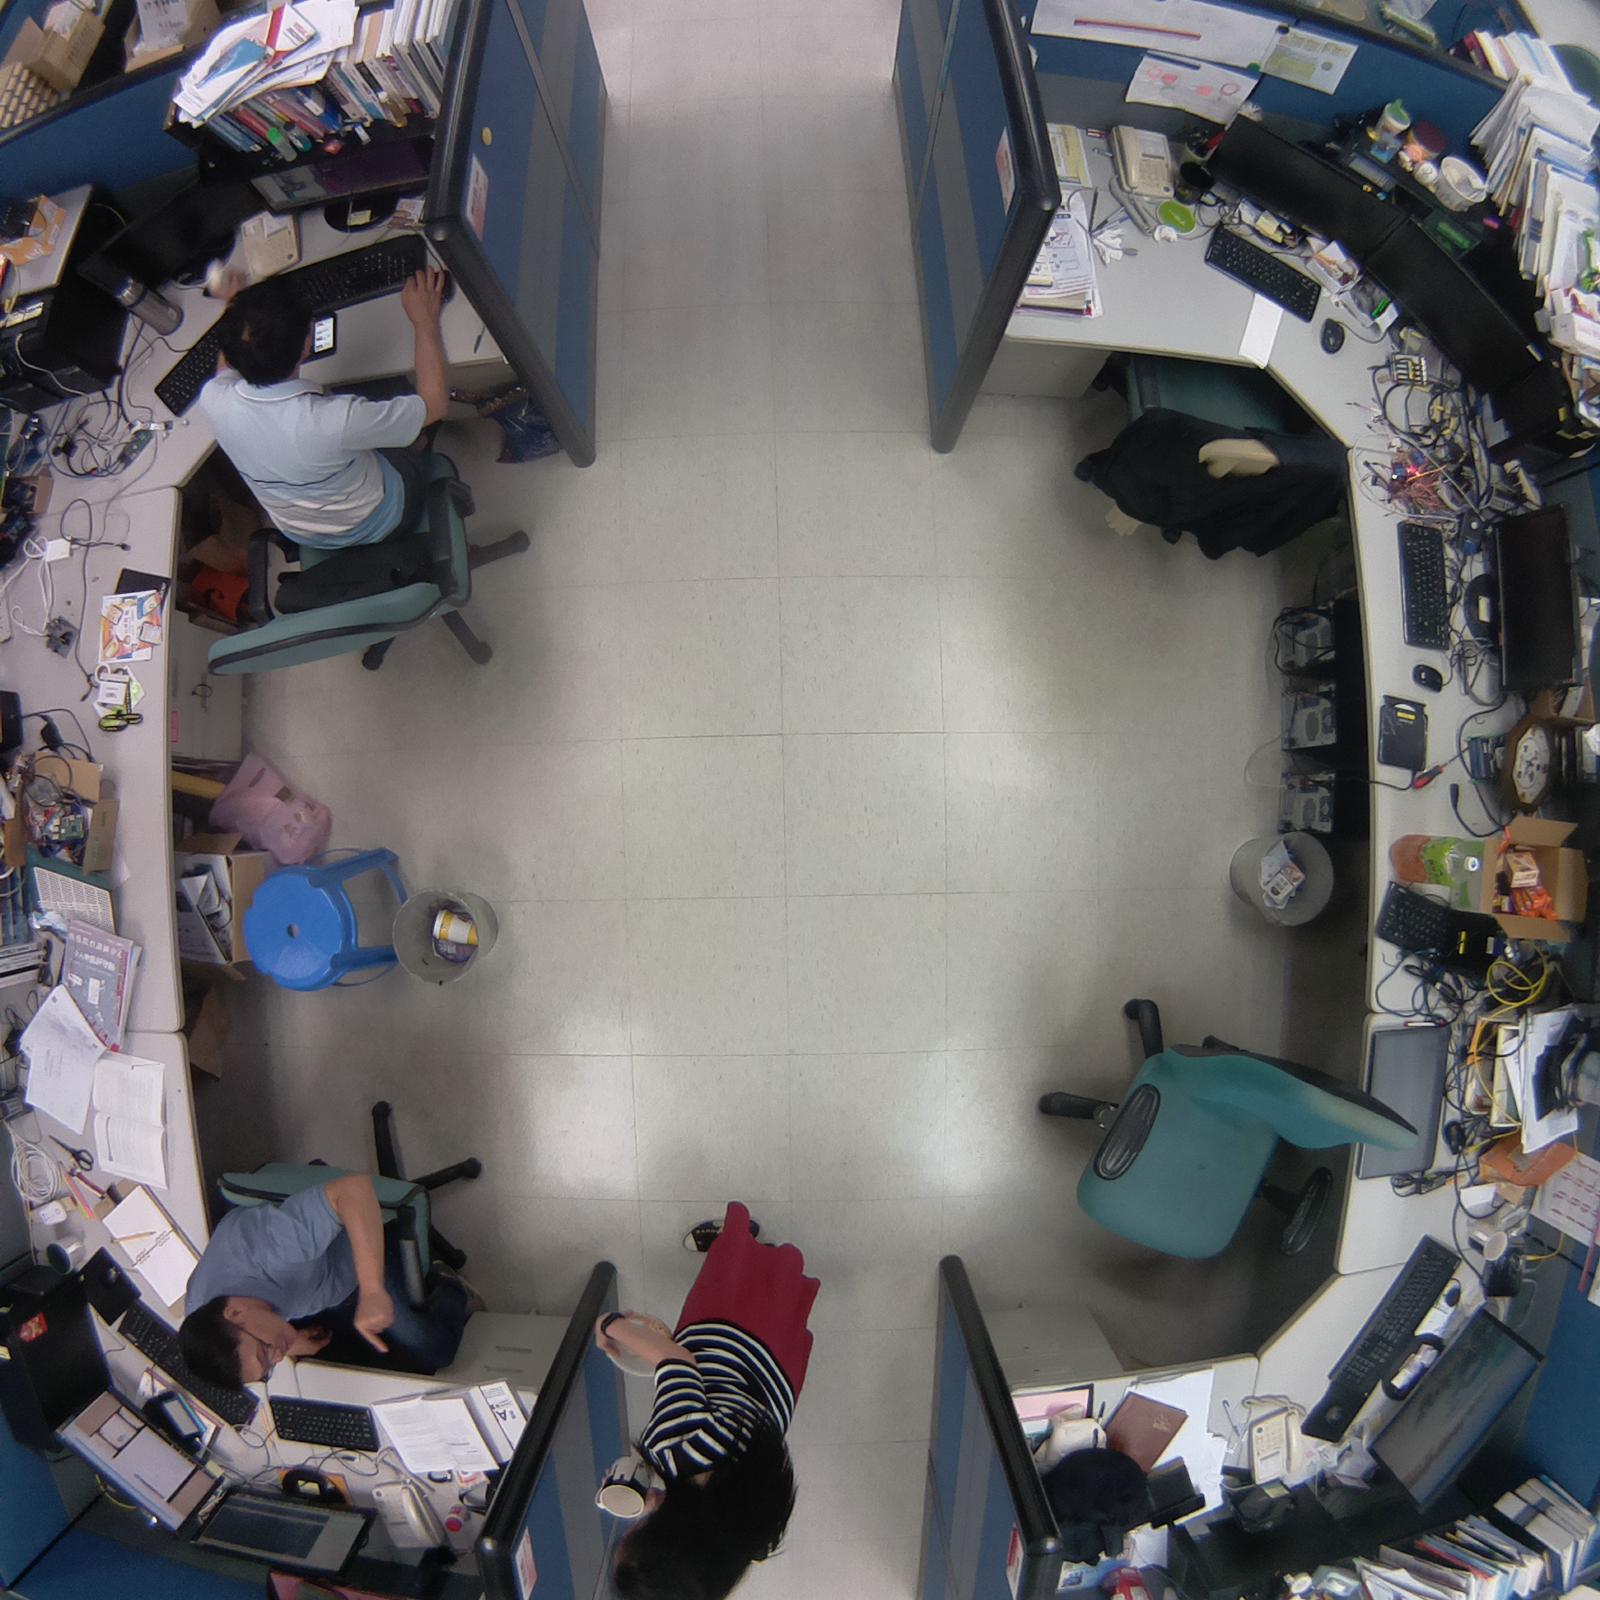chair: (1014, 978, 1440, 1283), (1040, 324, 1370, 581)
head: (601, 1469, 799, 1600), (161, 1289, 303, 1403), (212, 285, 319, 385)
sitting: (170, 267, 542, 704), (155, 1093, 501, 1424)
standing: (559, 1191, 842, 1600)
